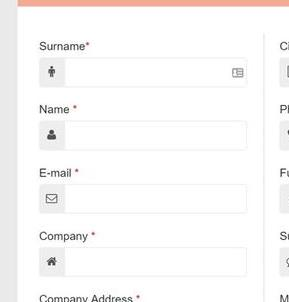field: (35, 120, 251, 153), (37, 183, 249, 216), (36, 246, 250, 278), (37, 57, 250, 88)
field_with_label: (33, 104, 252, 154), (35, 167, 250, 217), (34, 231, 252, 280), (35, 41, 252, 90)
